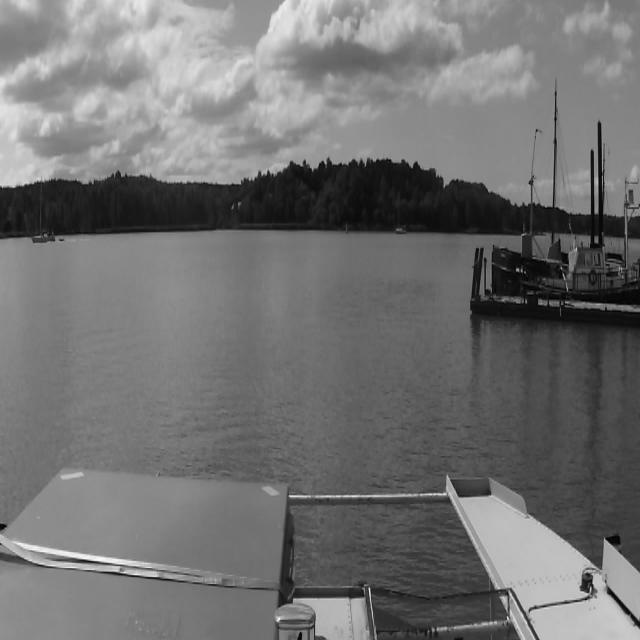ship: (486, 235, 640, 303), (32, 177, 54, 245)
